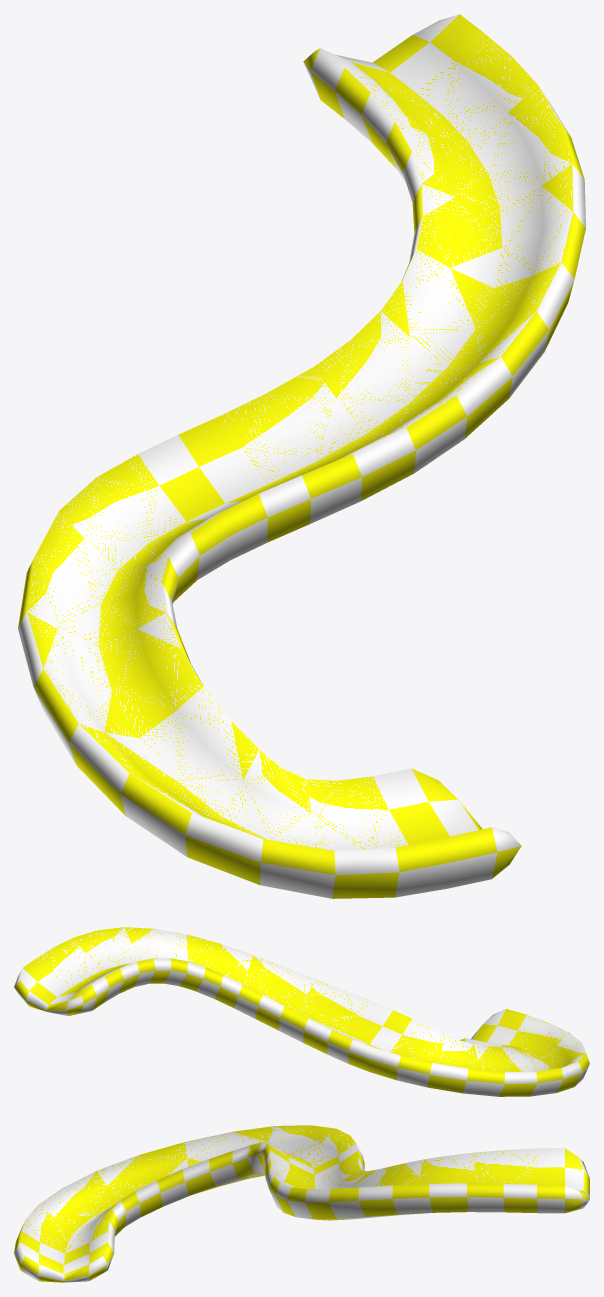
File: wandao1.fbx
The picture shows the model from 3 angles, top to bottom: view 1: azimuth 30°, elevation 25°; view 2: azimuth 150°, elevation 25°; view 3: azimuth 270°, elevation 25°; orthographic projection. The views are drawn at different scales.
Parts seen in each view (by area): view 1: polySurface2; view 2: polySurface2; view 3: polySurface2.
Part boxes in pixels (x1,y1,x2,y2): polySurface2: [18, 14, 585, 898]; polySurface2: [14, 927, 589, 1096]; polySurface2: [14, 1125, 589, 1282].
Bounding box in the file's own units: 9.38 × 4.75 × 11.5.
1 material, 1 textured.
